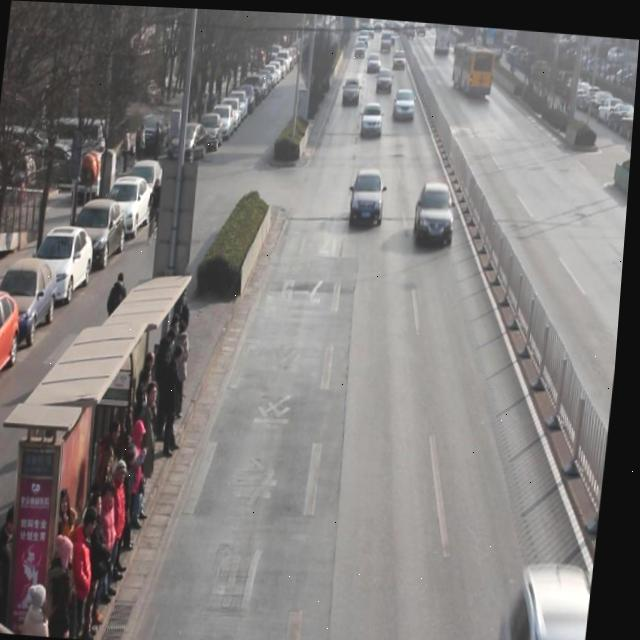car: (415, 176, 461, 245), (352, 164, 390, 224), (361, 98, 386, 136), (393, 82, 418, 119), (342, 72, 363, 104), (376, 63, 395, 90)
